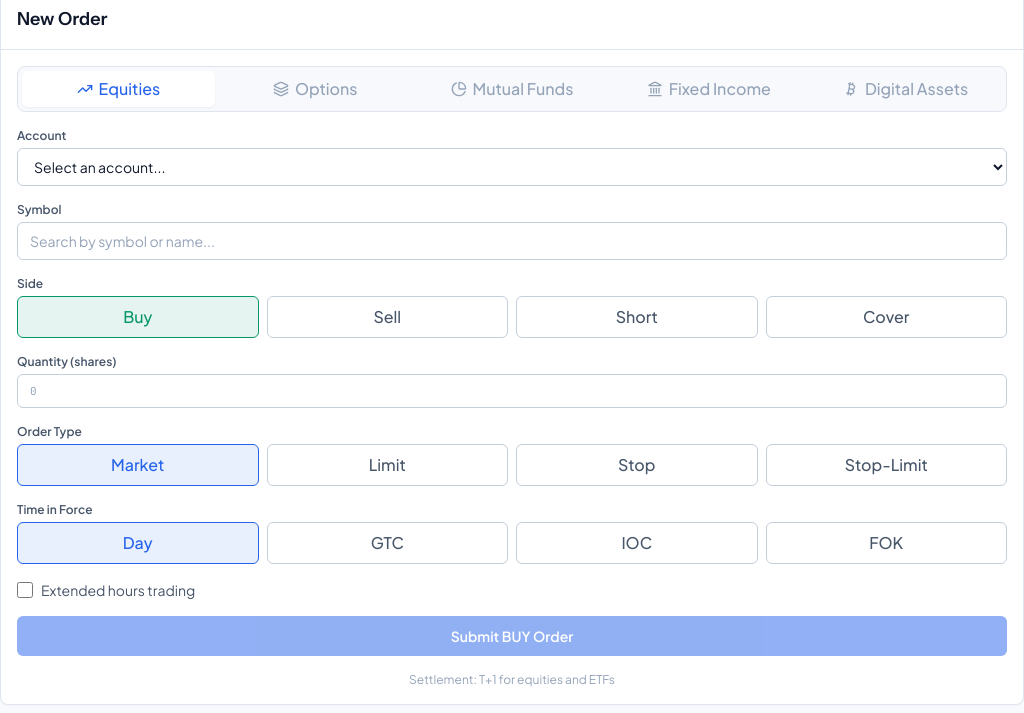
Test: SingleTradeView — fixed-income notional wiring (fix round 3) › a $2M-par bond buy at a 99.45 clean price blocks — 24.3% of the $8.2M account against a 10% single-name limit
Click the button "Fixed Income": (709, 89) [612,71,805,107]
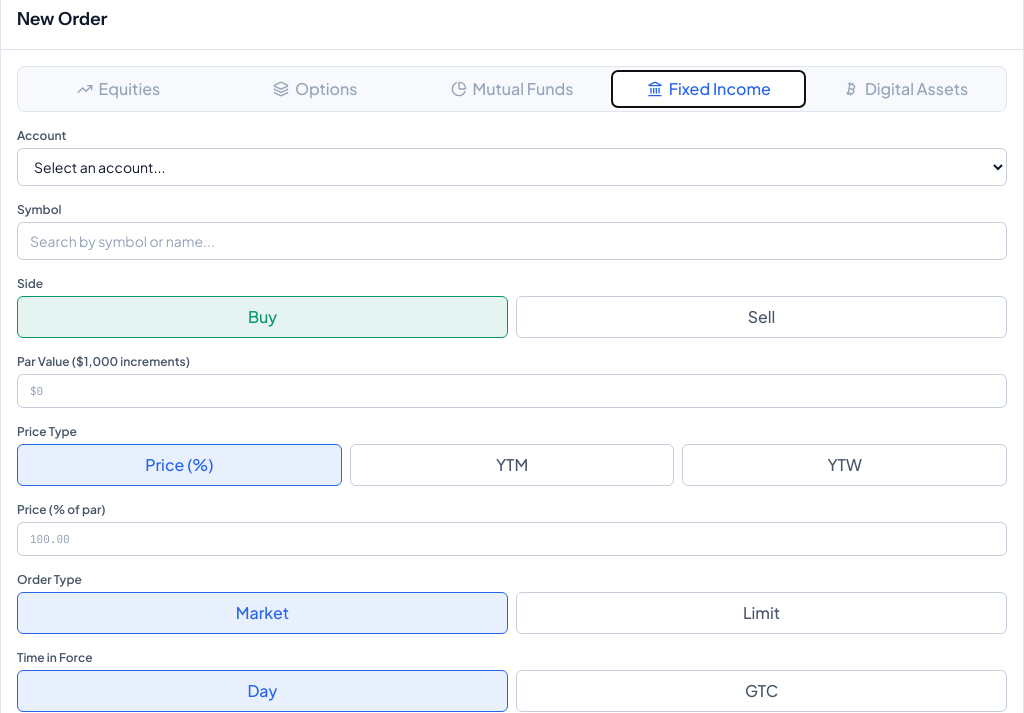
Select "Johnson Family Trust (TRU-847291) - $8.2M" in the dropdown labelled "Account": (512, 167) [17,148,1007,186]
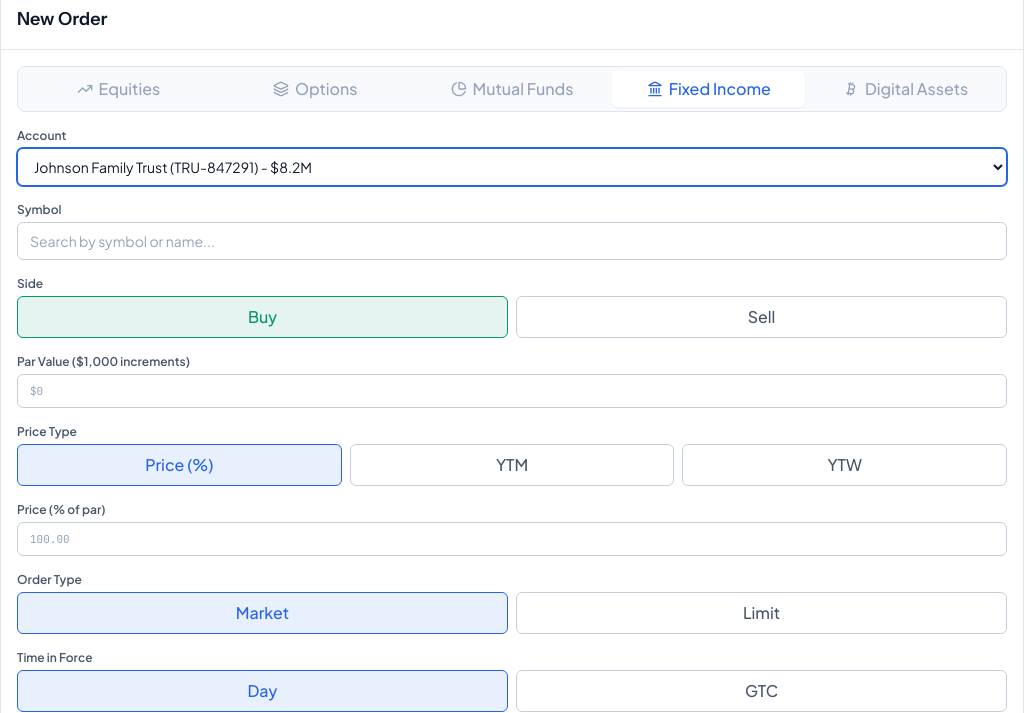
In the field labelled "Symbol": (512, 241) [17,222,1007,260], type "UST-2Y"
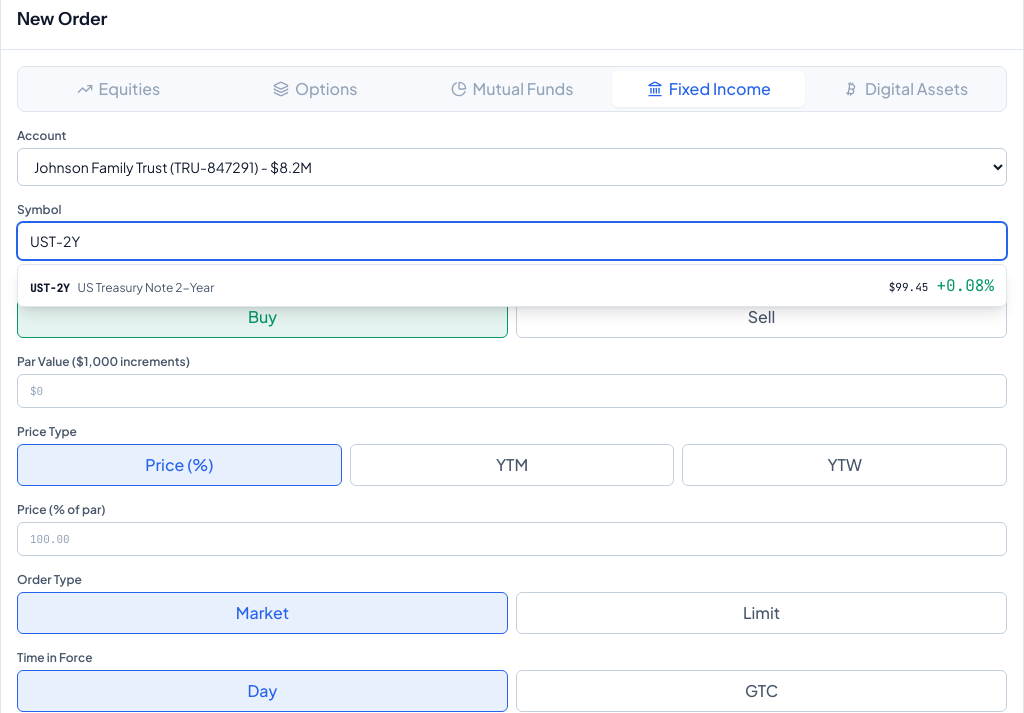
Click the text "UST-2Y": (50, 288) [30,280,70,294]
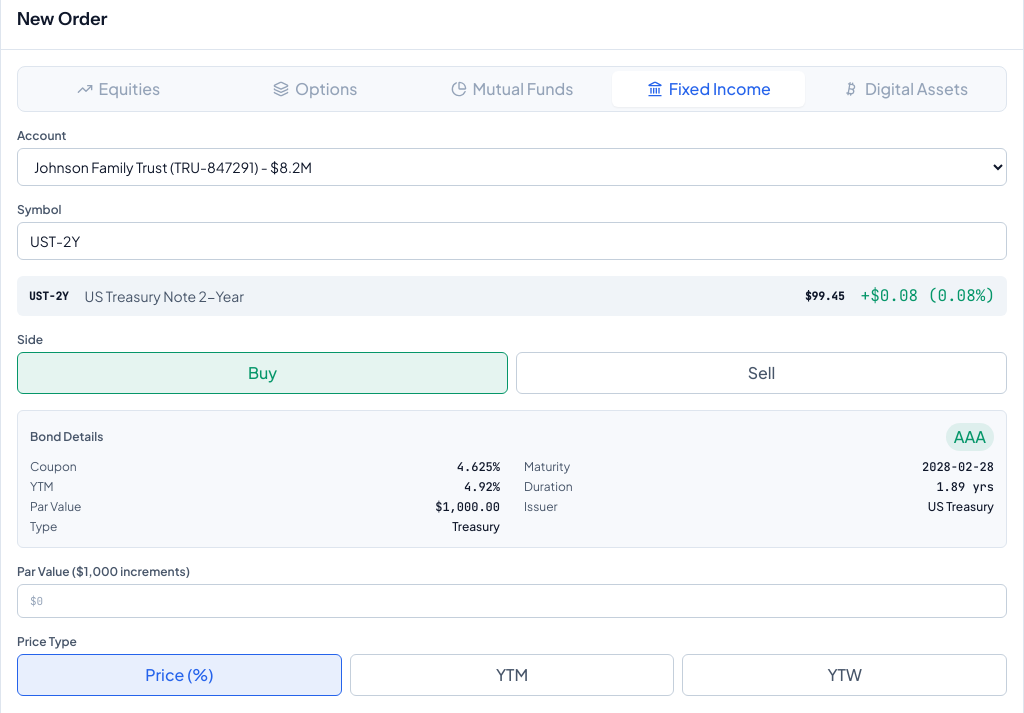
In the number field labelled "Par Value ($1,000 increments)": (512, 601) [17,584,1007,618], type "2000000"
(page scrolled)
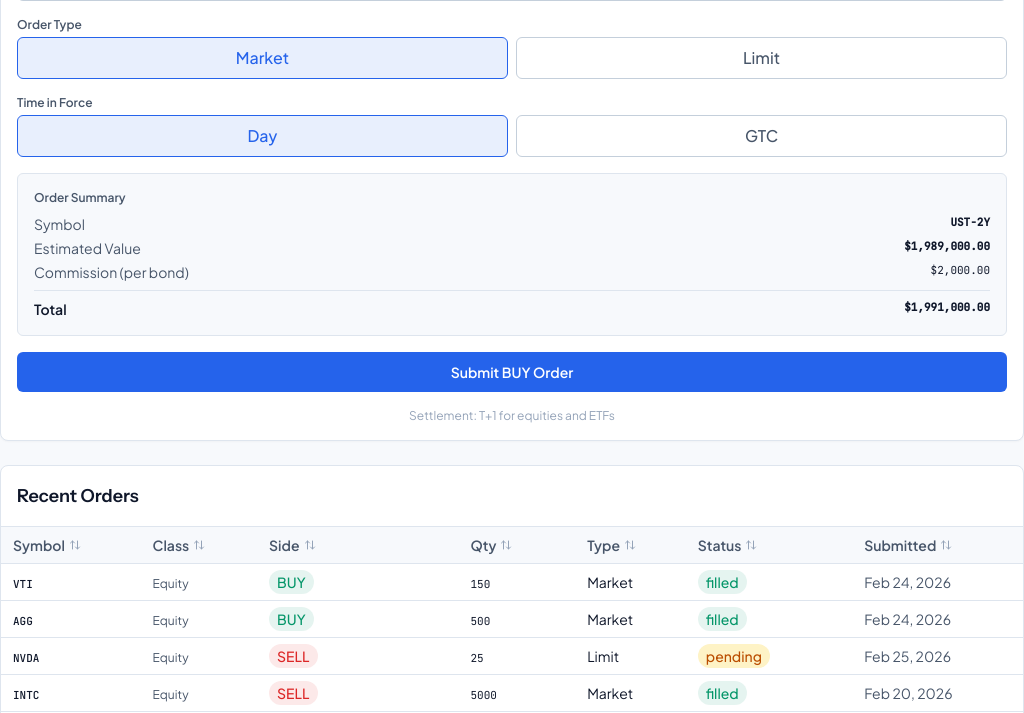
Click the button "Submit BUY Order": (512, 372) [17,352,1007,392]
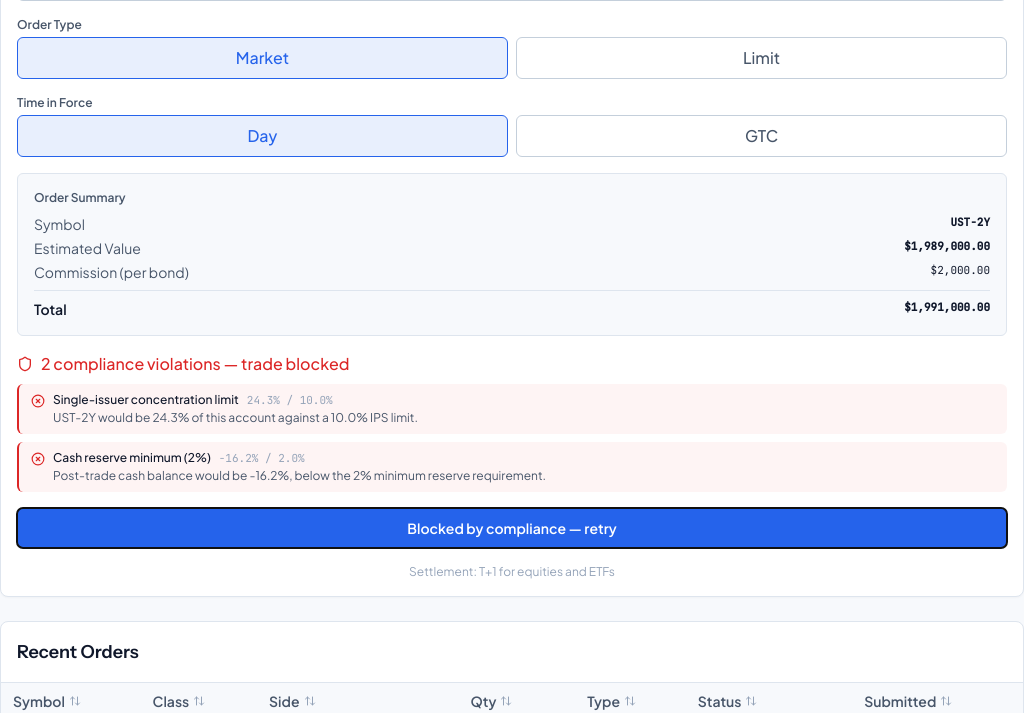
Expected: the text "2 compliance violations — trade blocked" is shown, [41,352,350,376]
